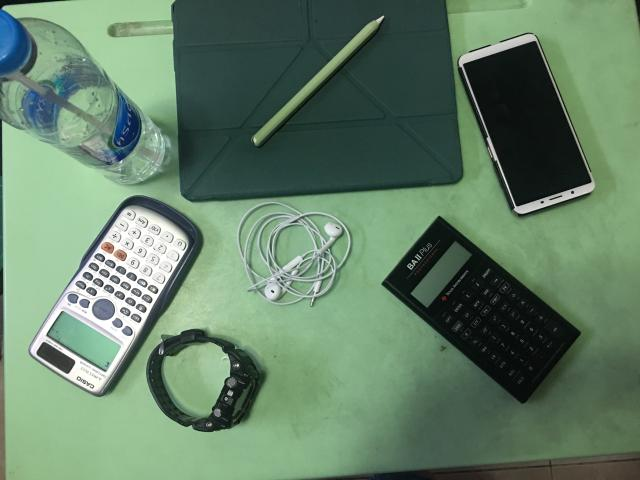Mobile phone: (458, 34, 595, 215)
Watch: (146, 329, 259, 431)
bottle: (0, 10, 165, 184)
wire: (238, 201, 351, 306)
